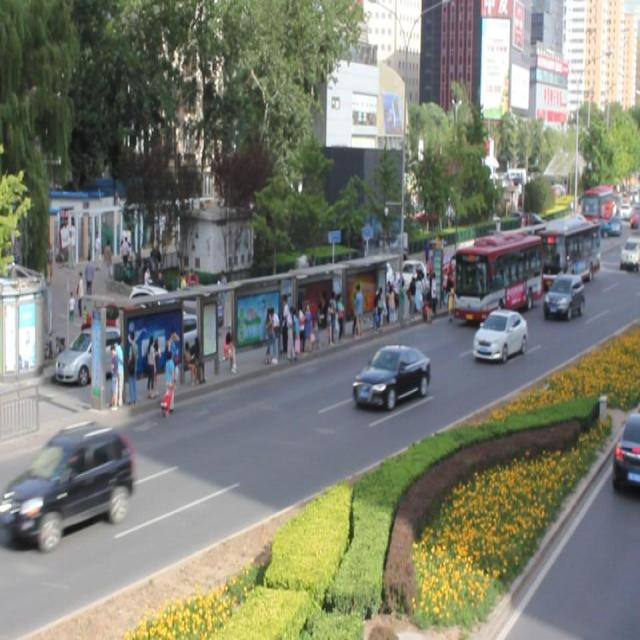car: (15, 422, 132, 551), (351, 344, 430, 412), (471, 309, 526, 363), (543, 274, 583, 320)
van: (447, 232, 538, 326), (534, 218, 600, 285)
